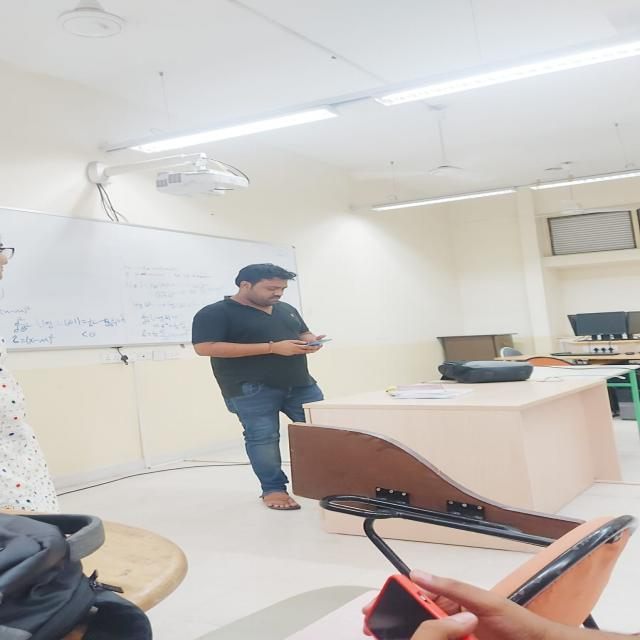Animals: (178, 242, 342, 412)
Others: (126, 143, 278, 208), (420, 351, 546, 391)
